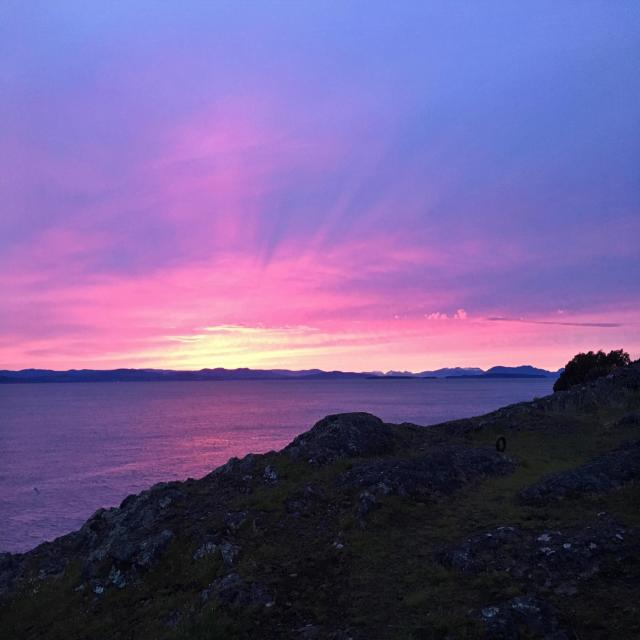other: (105, 304, 351, 389)
